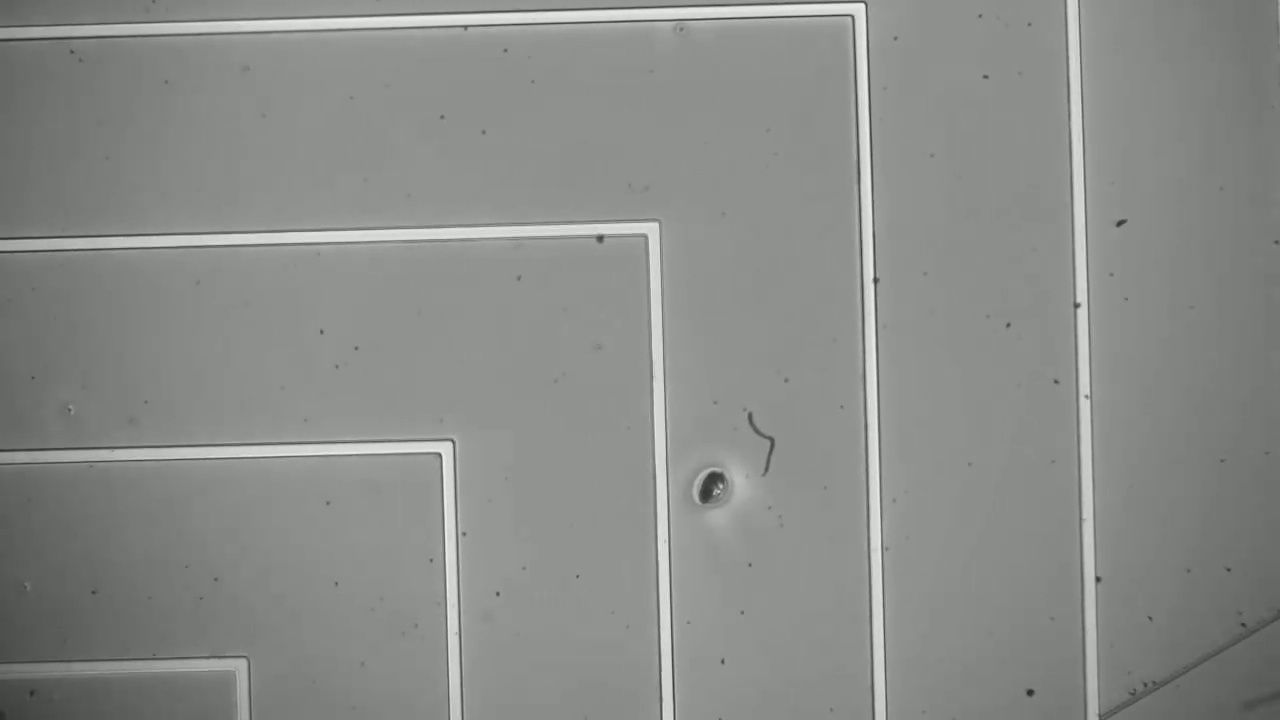scratch: (1098, 602, 1271, 719)
